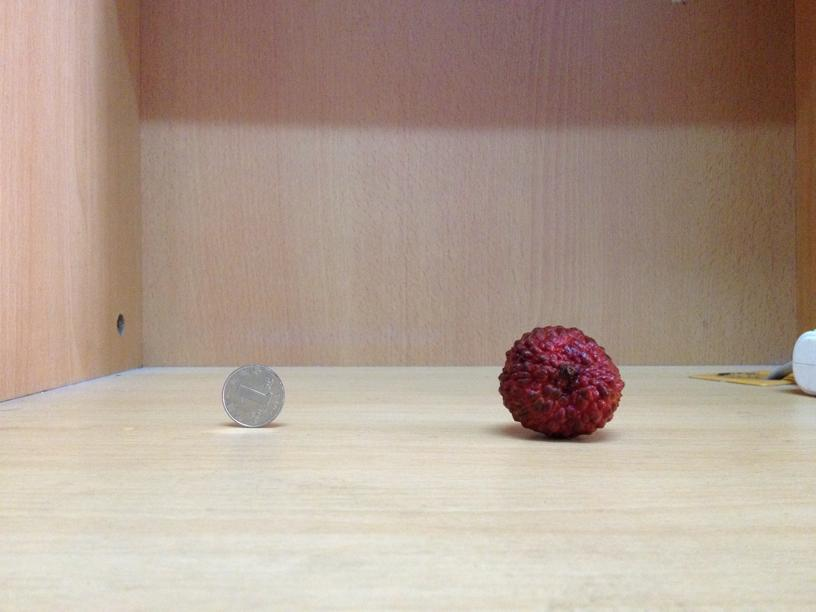coin: (218, 362, 287, 428)
litchi: (492, 326, 624, 440)
